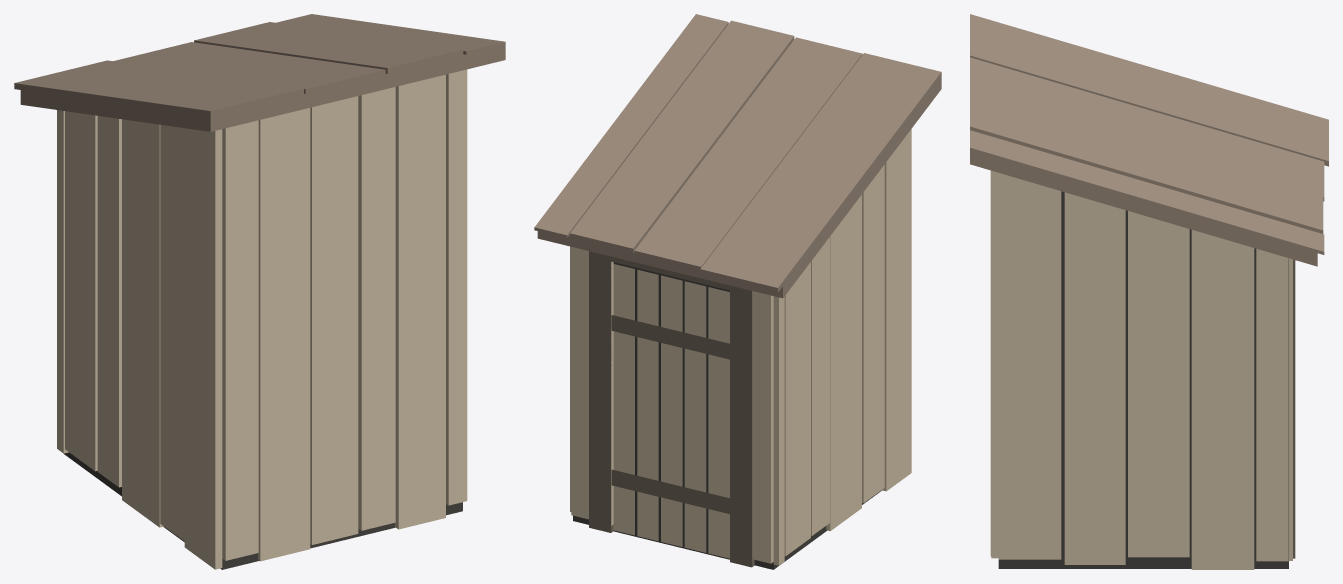
Rendered from recon_1835_blk_south_water_wells_a3_08__inferred_1835.glb.
3 renders of one model, left to right at view 1: azimuth 30°, elevation 25°; view 2: azimuth 150°, elevation 25°; view 3: azimuth 270°, elevation 25°, orthographic. The views are drawn at different scales.
Visible parts, largest first — view 1: recon_1835_blk_south_water_wells_a3_08__inferred_1835; view 2: recon_1835_blk_south_water_wells_a3_08__inferred_1835; view 3: recon_1835_blk_south_water_wells_a3_08__inferred_1835.
Boxes of the visible parts, x1=… form: recon_1835_blk_south_water_wells_a3_08__inferred_1835: x1=14, y1=14, x2=505, y2=569; recon_1835_blk_south_water_wells_a3_08__inferred_1835: x1=534, y1=14, x2=941, y2=569; recon_1835_blk_south_water_wells_a3_08__inferred_1835: x1=970, y1=14, x2=1328, y2=569.
Bounding box in the file's own units: 1.78 × 2.75 × 2.05.
